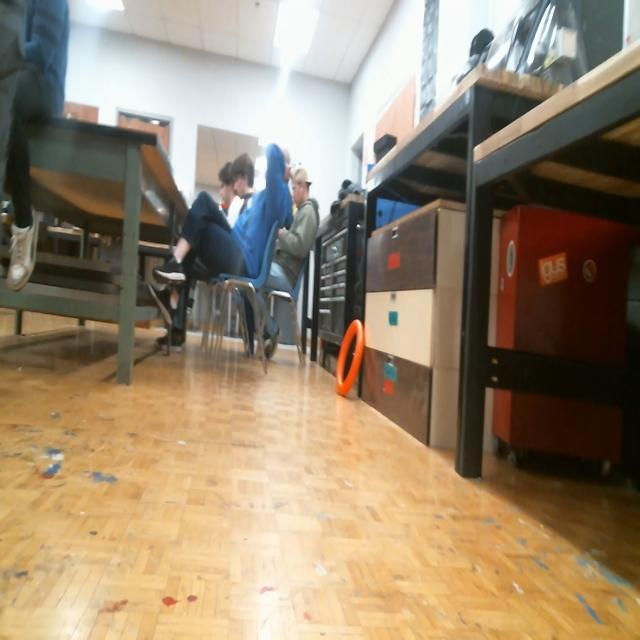note: (336, 317, 365, 397)
